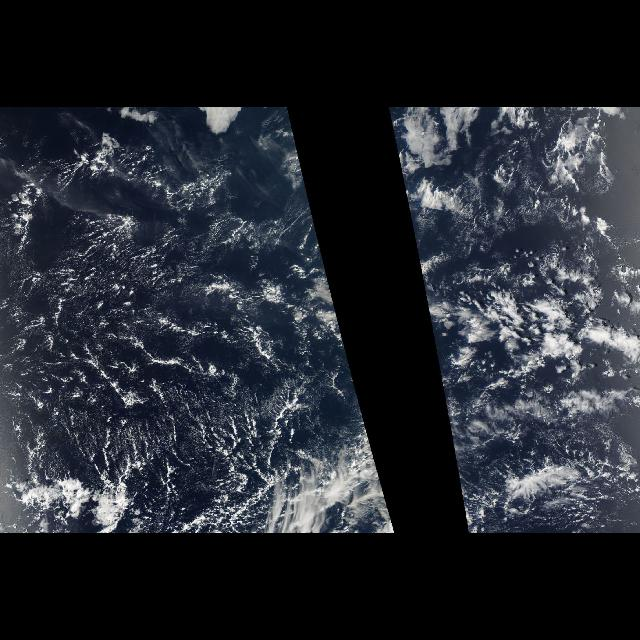Flower: (417, 253, 639, 407), (282, 253, 361, 407)
Gravel: (5, 230, 308, 444)
Sugar: (0, 243, 202, 412)
